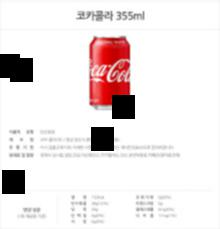cocacola: (87, 33, 133, 114)
